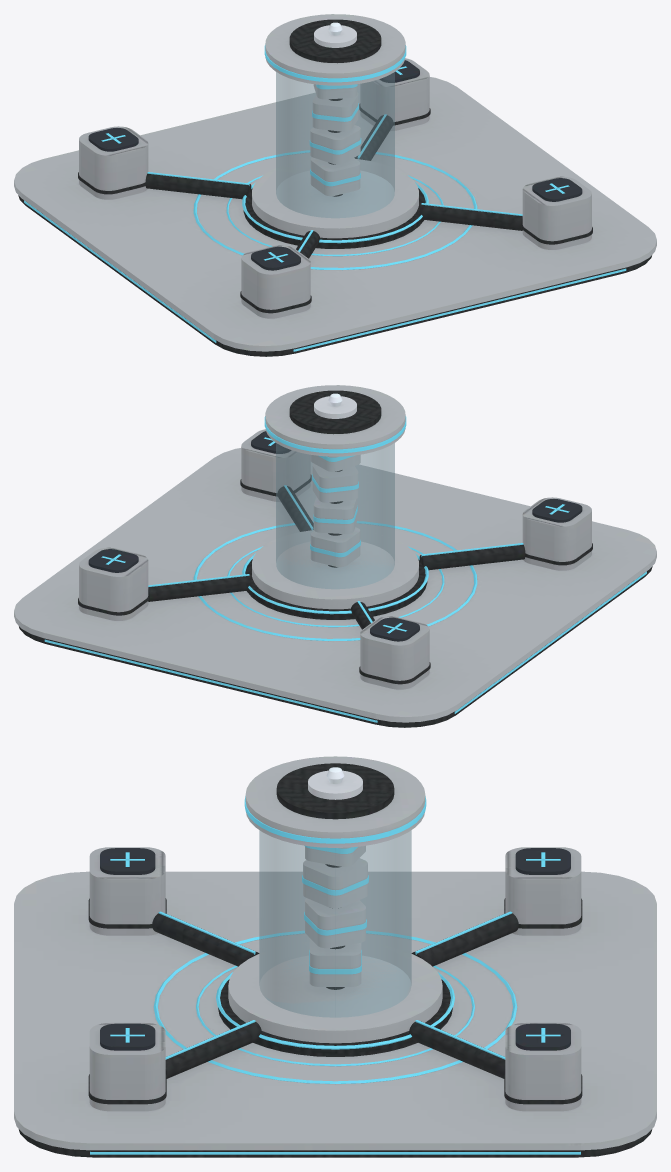
The model's file is enterprise_supply_hub.glb.
3 views of the same model, one above another, from view 1: azimuth 30°, elevation 25°; view 2: azimuth 150°, elevation 25°; view 3: azimuth 270°, elevation 25° (orthographic). The views are drawn at different scales.
Parts seen in each view (by area): view 1: te_enterprise_supply_hub; view 2: te_enterprise_supply_hub; view 3: te_enterprise_supply_hub.
Part boxes in pixels (<box>): te_enterprise_supply_hub: <box>14,14,656,356</box>; te_enterprise_supply_hub: <box>14,385,656,727</box>; te_enterprise_supply_hub: <box>14,756,656,1157</box>.
Size of the model in its own units: 1.86 by 0.816 by 1.86.
2 materials, 1 textured.
